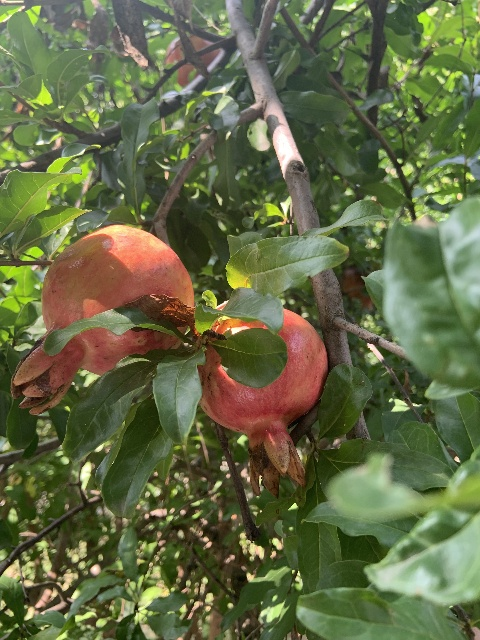ripe: (11, 224, 193, 413), (197, 307, 327, 497)
